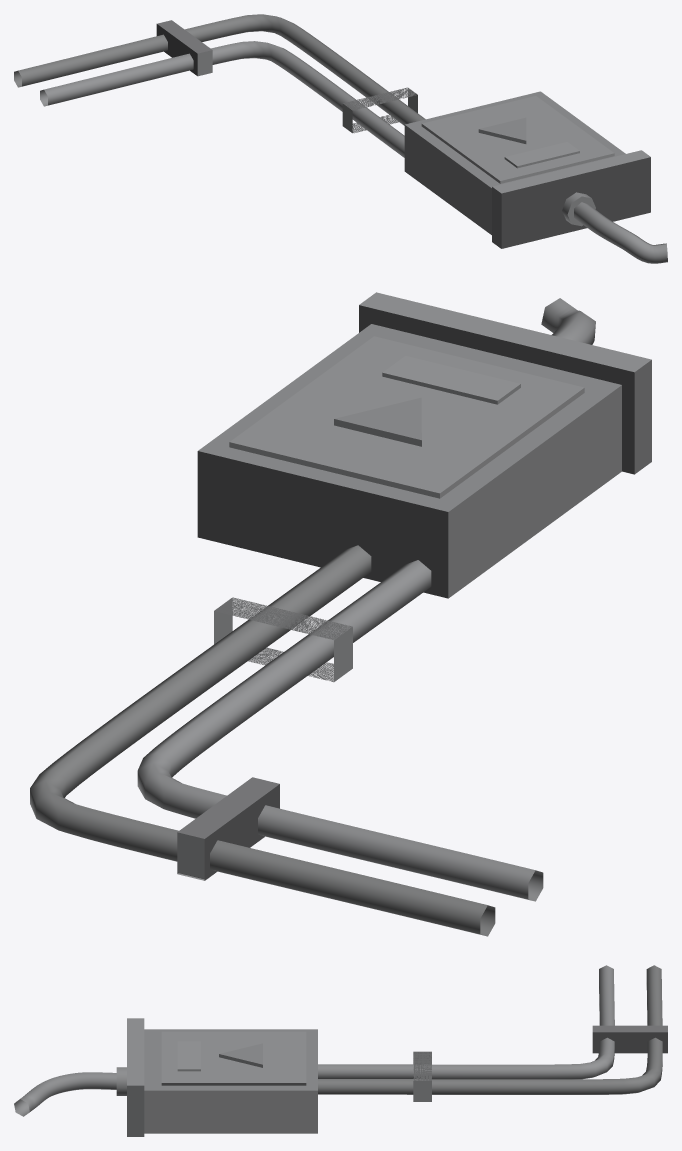
3 views of the same model, one above another, from view 1: azimuth 30°, elevation 25°; view 2: azimuth 150°, elevation 25°; view 3: azimuth 270°, elevation 25° (orthographic). The views are drawn at different scales.
Bounding box in the file's own units: 0.51 × 0.078 × 0.904.
